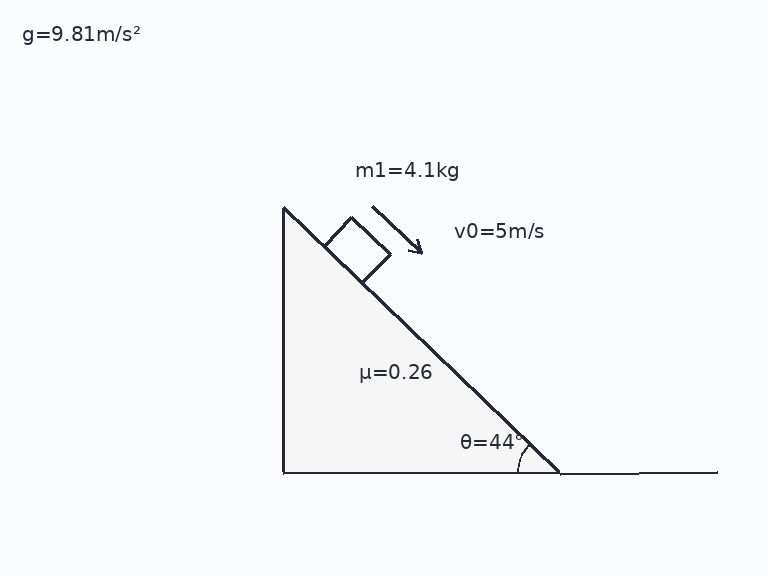block: (322, 216, 391, 285)
ramp: (281, 205, 560, 474)
